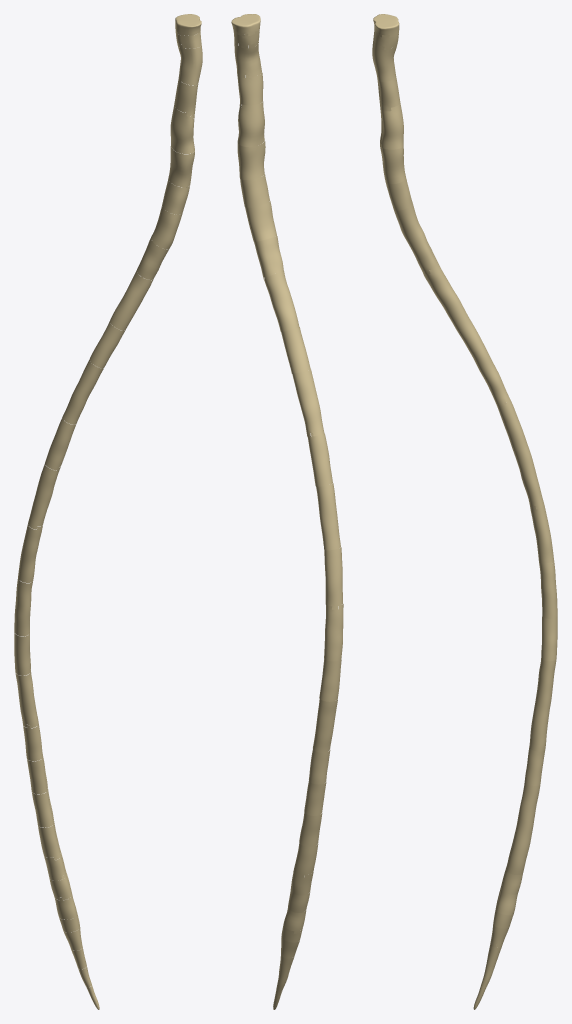
The model's file is spinal-cord.glb.
3 renders of one model, left to right at view 1: azimuth 90°, elevation 25°; view 2: azimuth 210°, elevation 25°; view 3: azimuth 270°, elevation 25°, orthographic. The views are drawn at different scales.
Parts seen in each view (by area): view 1: VH_M_second_thoracic_spinal_cord_segment, VH_M_fourth_thoracic_spinal_cord_segment, VH_M_sixth_thoracic_spinal_cord_segment, VH_M_C5_segment_of_cervical_spinal_cord, VH_M_seventh_thoracic_spinal_cord_segment, VH_M_eighth_thoracic_spinal_cord_segment, VH_M_tenth_thoracic_spinal_cord_segment, VH_M_C3_segment_of_cervical_spinal_cord, VH_M_fifth_thoracic_spinal_cord_segment, VH_M_C8_segment_of_cervical_spinal_cord, VH_M_C6_segment_of_cervical_spinal_cord, VH_M_third_thoracic_spinal_cord_segment (+9 smaller); view 2: VH_M_fourth_thoracic_spinal_cord_segment, VH_M_second_thoracic_spinal_cord_segment, VH_M_sixth_thoracic_spinal_cord_segment, VH_M_C5_segment_of_cervical_spinal_cord, VH_M_seventh_thoracic_spinal_cord_segment, VH_M_eighth_thoracic_spinal_cord_segment, VH_M_fifth_thoracic_spinal_cord_segment, VH_M_tenth_thoracic_spinal_cord_segment, VH_M_C8_segment_of_cervical_spinal_cord, VH_M_C6_segment_of_cervical_spinal_cord, VH_M_third_thoracic_spinal_cord_segment, VH_M_first_thoracic_spinal_cord_segment (+13 smaller); view 3: VH_M_second_thoracic_spinal_cord_segment, VH_M_fourth_thoracic_spinal_cord_segment, VH_M_sixth_thoracic_spinal_cord_segment, VH_M_C5_segment_of_cervical_spinal_cord, VH_M_tenth_thoracic_spinal_cord_segment, VH_M_seventh_thoracic_spinal_cord_segment, VH_M_eighth_thoracic_spinal_cord_segment, VH_M_fifth_thoracic_spinal_cord_segment, VH_M_C6_segment_of_cervical_spinal_cord, VH_M_C3_segment_of_cervical_spinal_cord, VH_M_third_thoracic_spinal_cord_segment, VH_M_ninth_thoracic_spinal_cord_segment (+9 smaller).
Part boxes in pixels (box(x1,y1,x2,y2)): VH_M_second_thoracic_spinal_cord_segment: box(110, 270, 152, 330); VH_M_fourth_thoracic_spinal_cord_segment: box(62, 359, 103, 424); VH_M_sixth_thoracic_spinal_cord_segment: box(28, 464, 60, 529); VH_M_C5_segment_of_cervical_spinal_cord: box(170, 105, 194, 153); VH_M_seventh_thoracic_spinal_cord_segment: box(18, 524, 42, 582); VH_M_eighth_thoracic_spinal_cord_segment: box(14, 578, 32, 636); VH_M_tenth_thoracic_spinal_cord_segment: box(15, 670, 38, 728); VH_M_C3_segment_of_cervical_spinal_cord: box(177, 42, 202, 85); VH_M_fifth_thoracic_spinal_cord_segment: box(45, 417, 75, 470); VH_M_C8_segment_of_cervical_spinal_cord: box(151, 206, 182, 249); VH_M_C6_segment_of_cervical_spinal_cord: box(168, 146, 194, 187); VH_M_third_thoracic_spinal_cord_segment: box(89, 321, 124, 368); VH_M_fourth_thoracic_spinal_cord_segment: box(292, 369, 324, 436); VH_M_second_thoracic_spinal_cord_segment: box(264, 271, 299, 331); VH_M_sixth_thoracic_spinal_cord_segment: box(316, 483, 340, 550); VH_M_C5_segment_of_cervical_spinal_cord: box(237, 101, 264, 147); VH_M_seventh_thoracic_spinal_cord_segment: box(324, 547, 342, 609); VH_M_eighth_thoracic_spinal_cord_segment: box(324, 604, 343, 661); VH_M_fifth_thoracic_spinal_cord_segment: box(307, 433, 332, 486); VH_M_tenth_thoracic_spinal_cord_segment: box(313, 699, 337, 752); VH_M_C8_segment_of_cervical_spinal_cord: box(245, 201, 276, 241); VH_M_C6_segment_of_cervical_spinal_cord: box(237, 141, 265, 179); VH_M_third_thoracic_spinal_cord_segment: box(281, 327, 310, 373); VH_M_first_thoracic_spinal_cord_segment: box(254, 236, 283, 280); VH_M_second_thoracic_spinal_cord_segment: box(422, 261, 463, 317); VH_M_fourth_thoracic_spinal_cord_segment: box(470, 343, 510, 406); VH_M_sixth_thoracic_spinal_cord_segment: box(512, 445, 544, 509); VH_M_C5_segment_of_cervical_spinal_cord: box(380, 103, 403, 149); VH_M_tenth_thoracic_spinal_cord_segment: box(533, 658, 556, 716); VH_M_seventh_thoracic_spinal_cord_segment: box(529, 502, 554, 564); VH_M_eighth_thoracic_spinal_cord_segment: box(539, 562, 557, 618); VH_M_fifth_thoracic_spinal_cord_segment: box(497, 399, 527, 450); VH_M_C6_segment_of_cervical_spinal_cord: box(380, 143, 405, 183); VH_M_C3_segment_of_cervical_spinal_cord: box(372, 41, 396, 81); VH_M_third_thoracic_spinal_cord_segment: box(449, 308, 483, 352); VH_M_ninth_thoracic_spinal_cord_segment: box(541, 614, 557, 661).
Size of the model in its own units: 0.0207 by 0.4652 by 0.0796.
